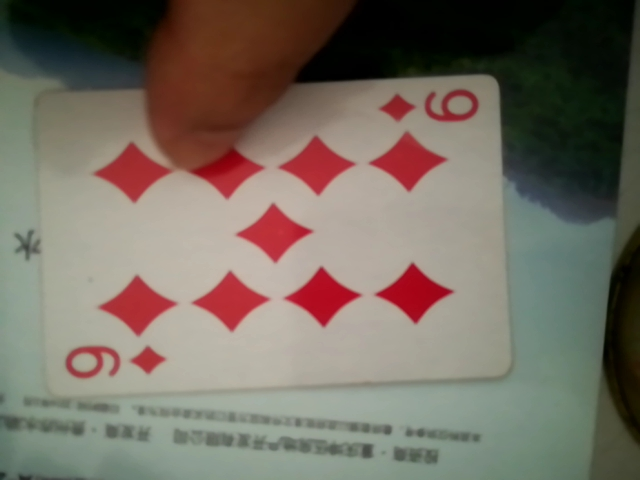fk 9: (26, 76, 520, 399)
